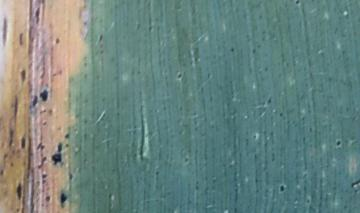tarspot: (51, 141, 65, 165), (14, 181, 24, 201), (58, 190, 68, 208), (39, 88, 50, 103), (276, 182, 287, 195), (19, 136, 28, 151), (30, 94, 39, 108), (43, 193, 53, 204), (62, 132, 73, 142), (334, 137, 343, 148), (40, 172, 51, 181)
